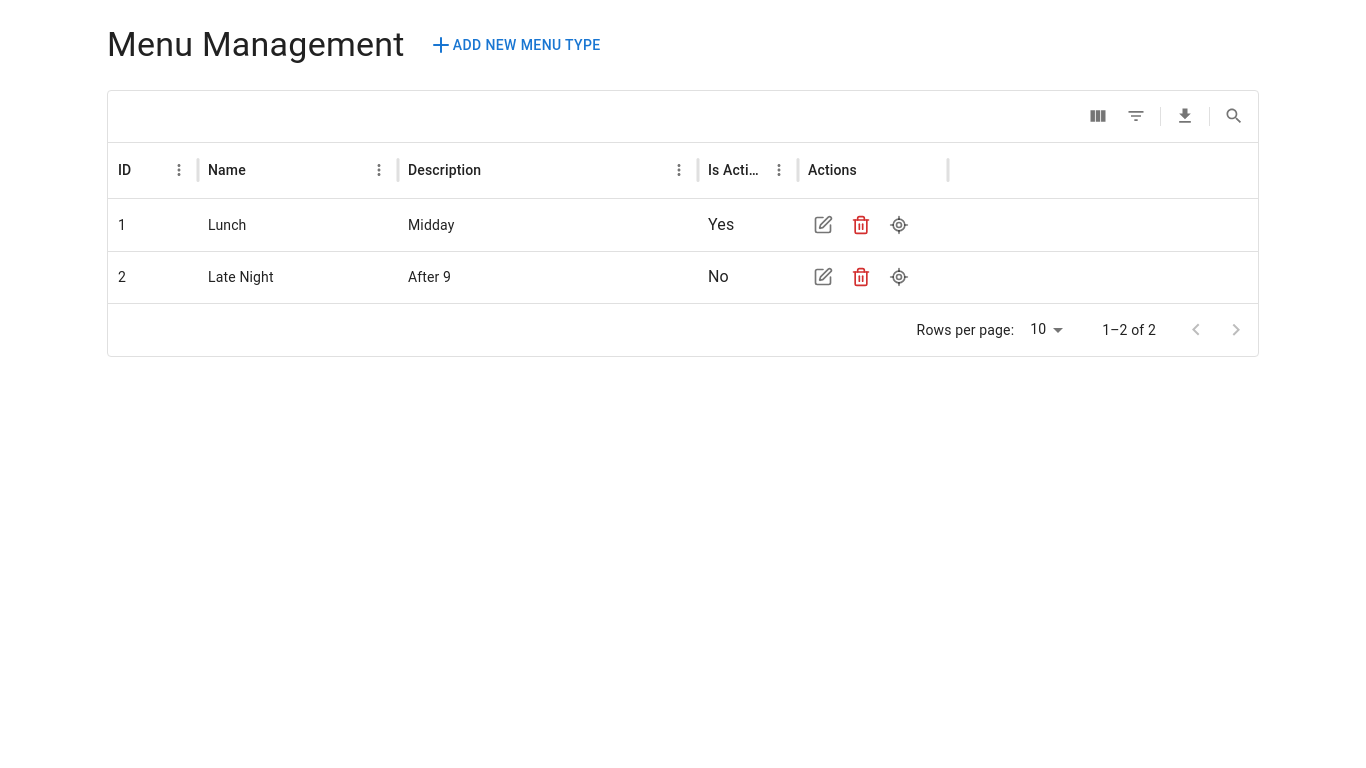
Scenario: MenuManagement › keeps the delete confirmation open with the reason when deleting fails
Expected: the text "Lunch" is shown, [208, 218, 246, 234]
Click the button named "Delete" in the row of "Lunch" at (861, 226), box [846, 210, 876, 240]
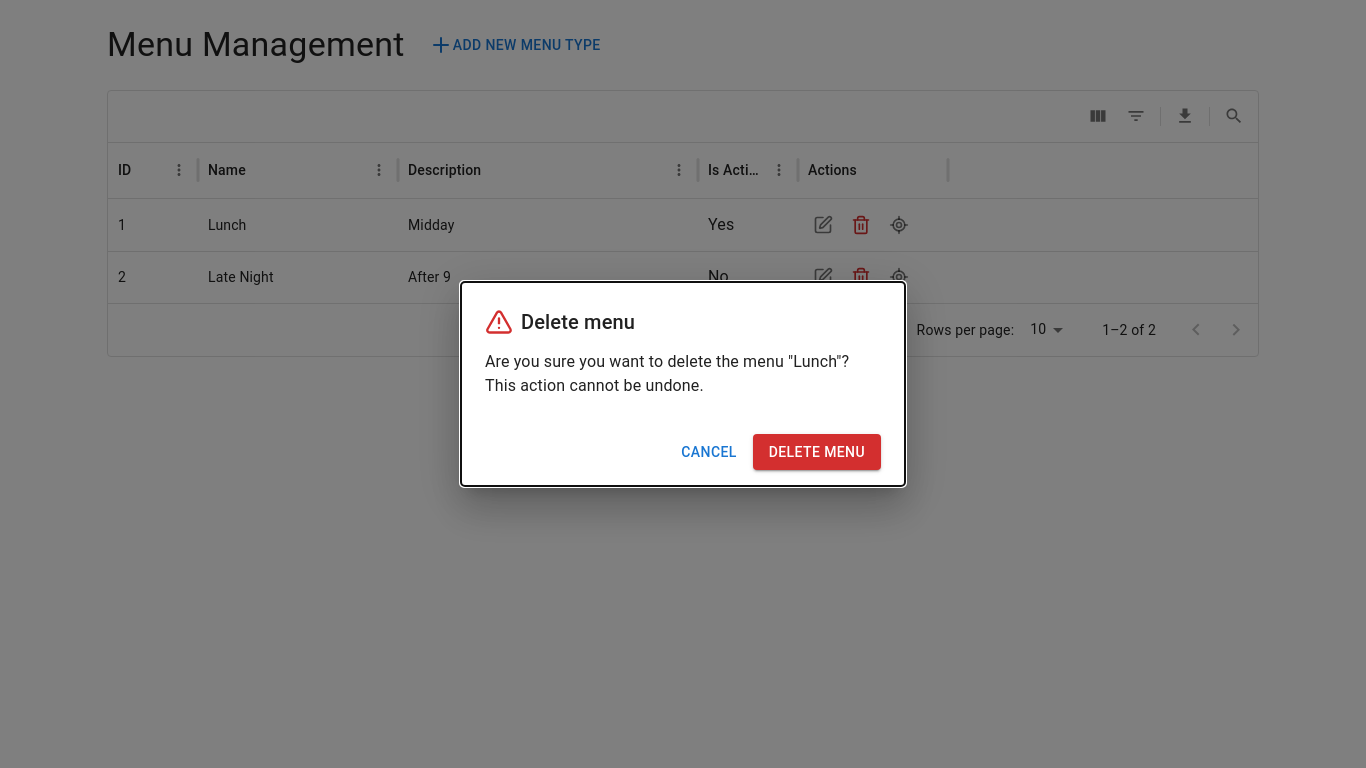
Click the button "Delete Menu" at (817, 452), box [753, 434, 881, 470]
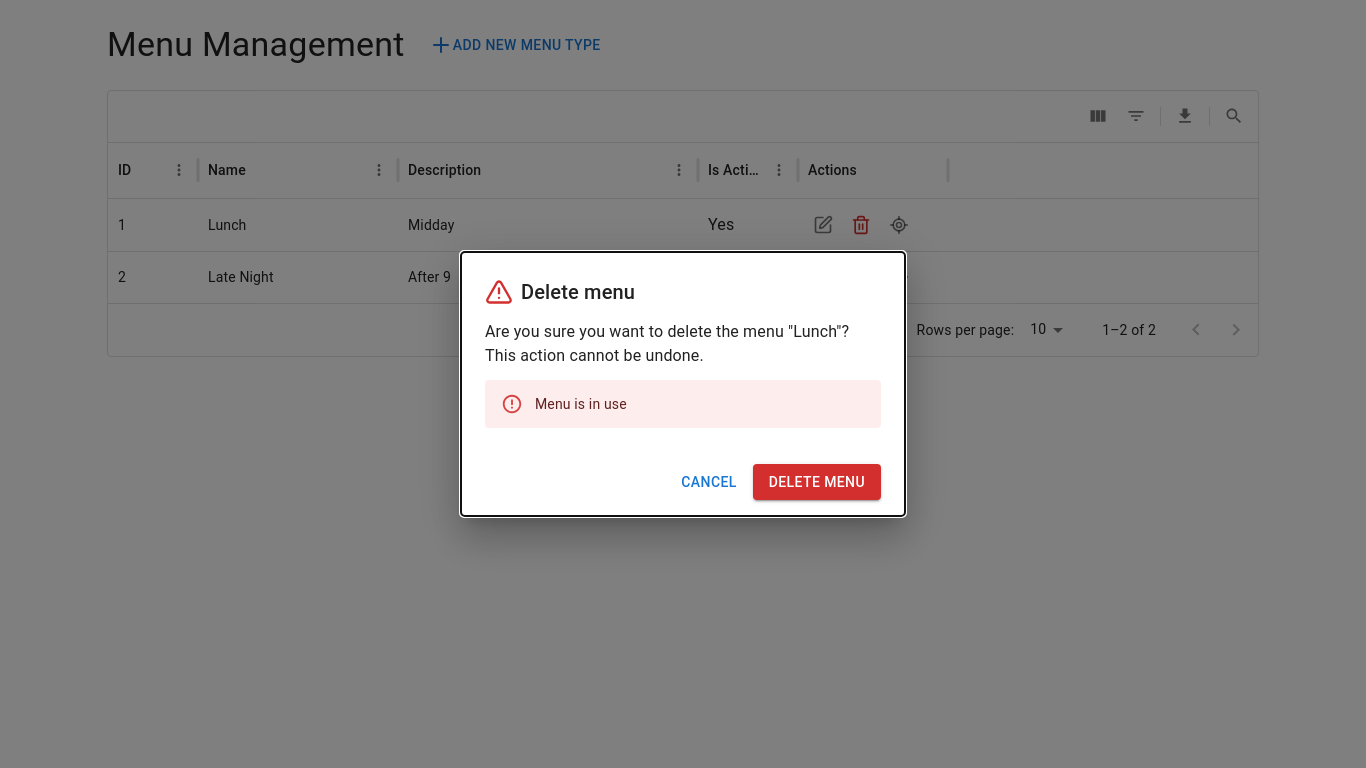
Expected: the button "Delete Menu" is enabled, [753, 464, 881, 500]
Expected: the text "Menu is in use" is shown, [535, 396, 627, 412]
